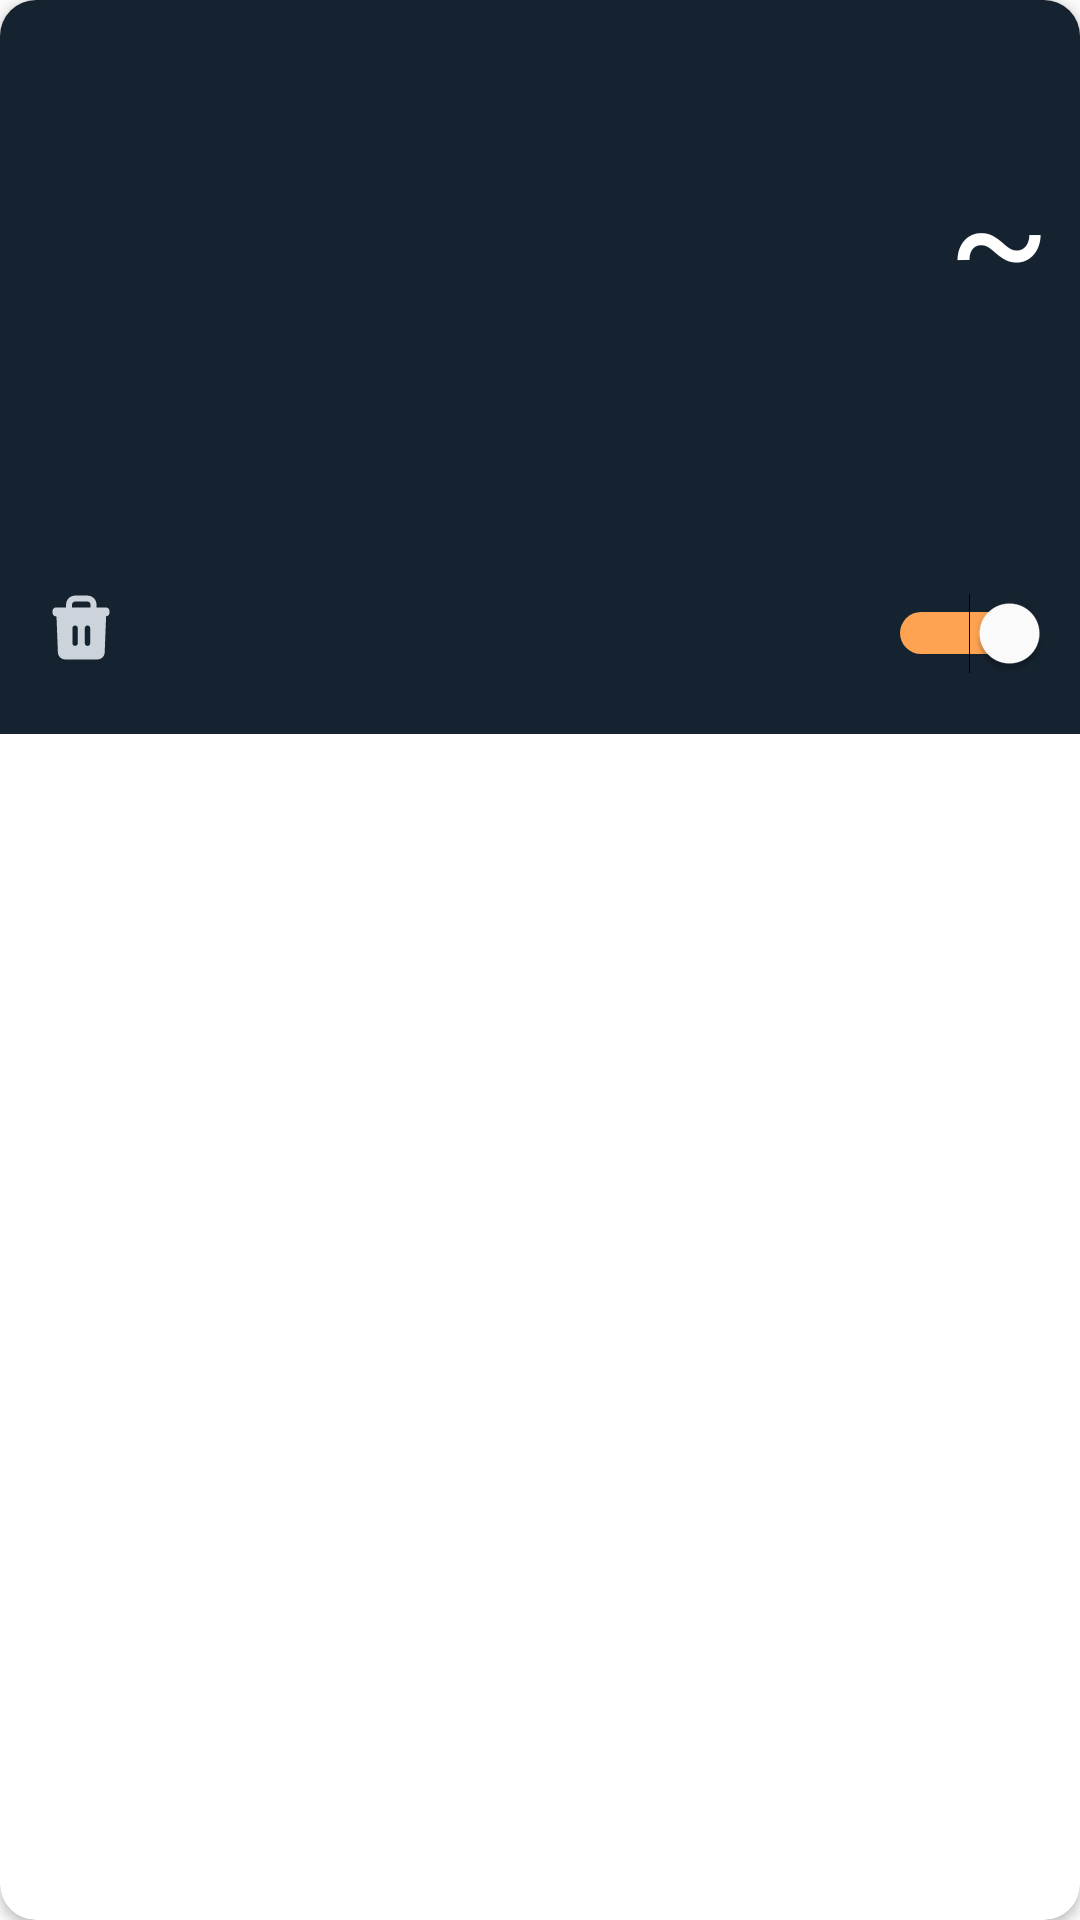

Locate icon controls on the screen. Image size 1080w x 1920h, boxes as (x1, y1, x2, y2).
delete: (52, 595, 110, 660)
